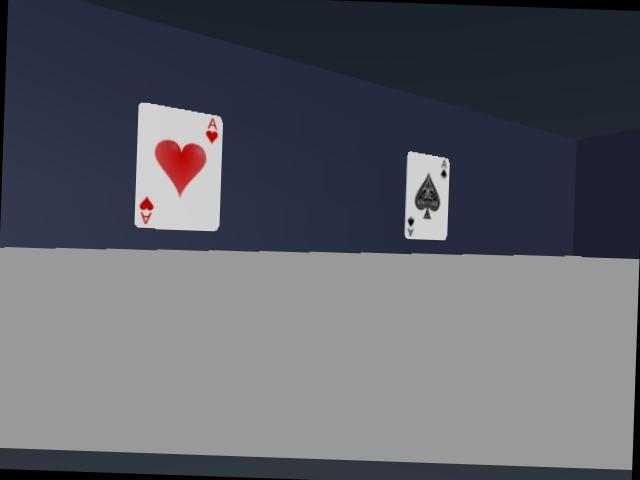heart: (134, 103, 222, 230)
spade: (404, 152, 449, 239)
